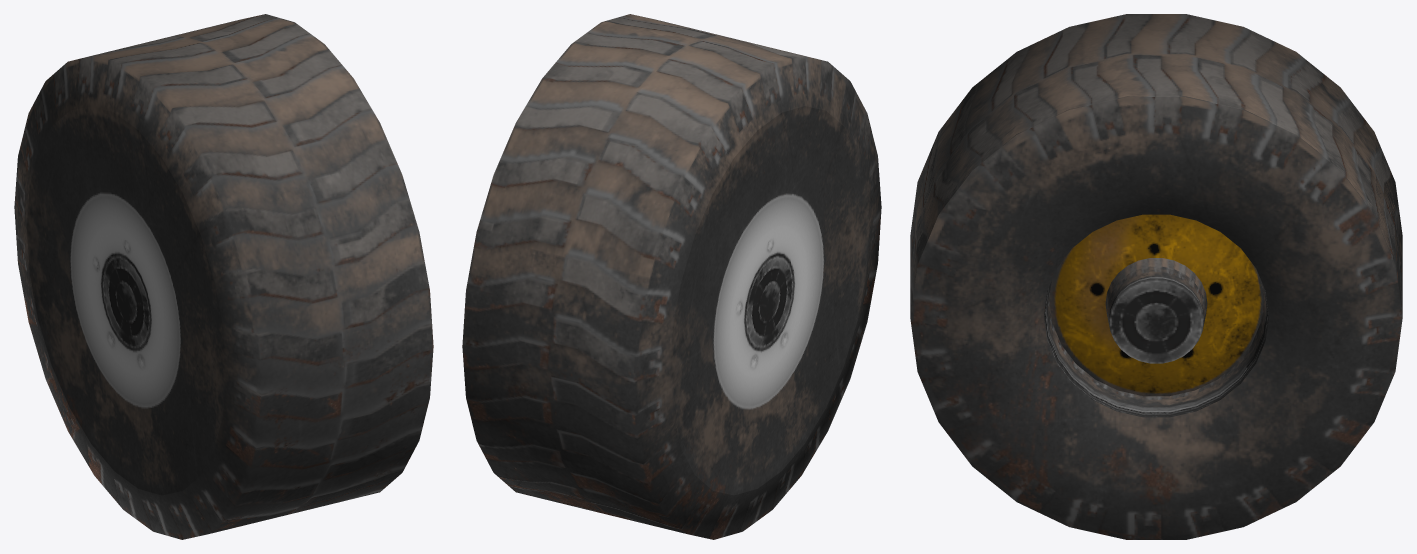
File: Tire RL.fbx
The picture shows the model from 3 angles, left to right: view 1: azimuth 30°, elevation 25°; view 2: azimuth 150°, elevation 25°; view 3: azimuth 270°, elevation 25°; orthographic projection.
Visible parts, largest first — view 1: RL; view 2: RL; view 3: RL.
Part boxes in pixels (bbox=[...]): RL: bbox=[14, 14, 433, 539]; RL: bbox=[462, 14, 881, 539]; RL: bbox=[910, 14, 1402, 539].
Size of the model in its own units: 52.81 by 116 by 115.
1 material, 1 textured.
